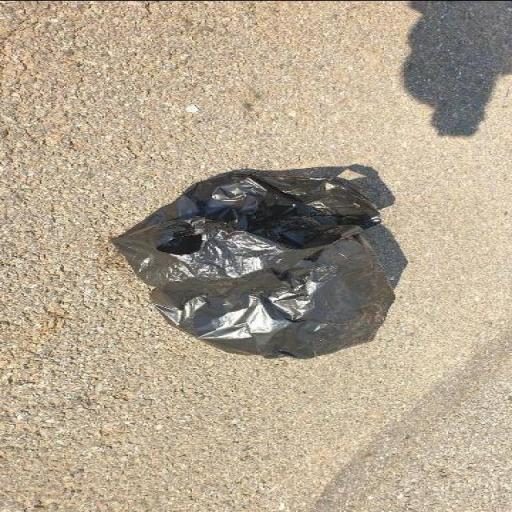plastic-bag: (109, 172, 410, 358)
